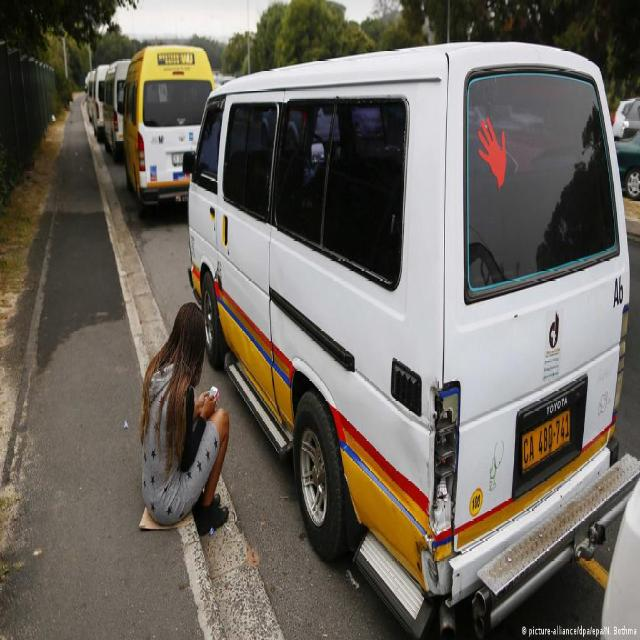MiniBus taxi: (188, 25, 636, 640), (125, 39, 212, 212)
